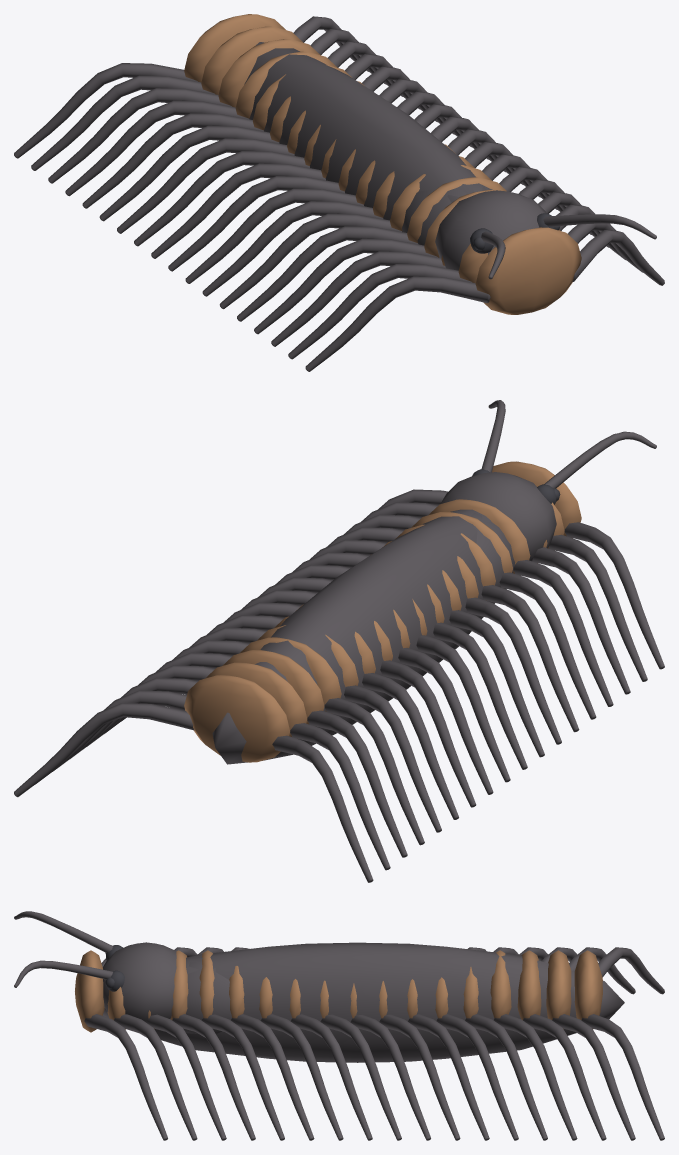
The model's file is reptiles-amphibians-and-minibeasts-giant-centipede-fec46e6e__22459.glb.
The picture shows the model from 3 angles, top to bottom: view 1: azimuth 30°, elevation 25°; view 2: azimuth 150°, elevation 25°; view 3: azimuth 270°, elevation 25°; orthographic projection. The views are drawn at different scales.
Parts seen in each view (by area): view 1: giant-centipede; view 2: giant-centipede; view 3: giant-centipede.
Part boxes in pixels (left/top/right/bottom): giant-centipede: left=14, top=14, right=664, bottom=371; giant-centipede: left=14, top=400, right=664, bottom=882; giant-centipede: left=14, top=911, right=664, bottom=1140.
Bounding box in the file's own units: 0.1356 × 0.055 × 0.25.
